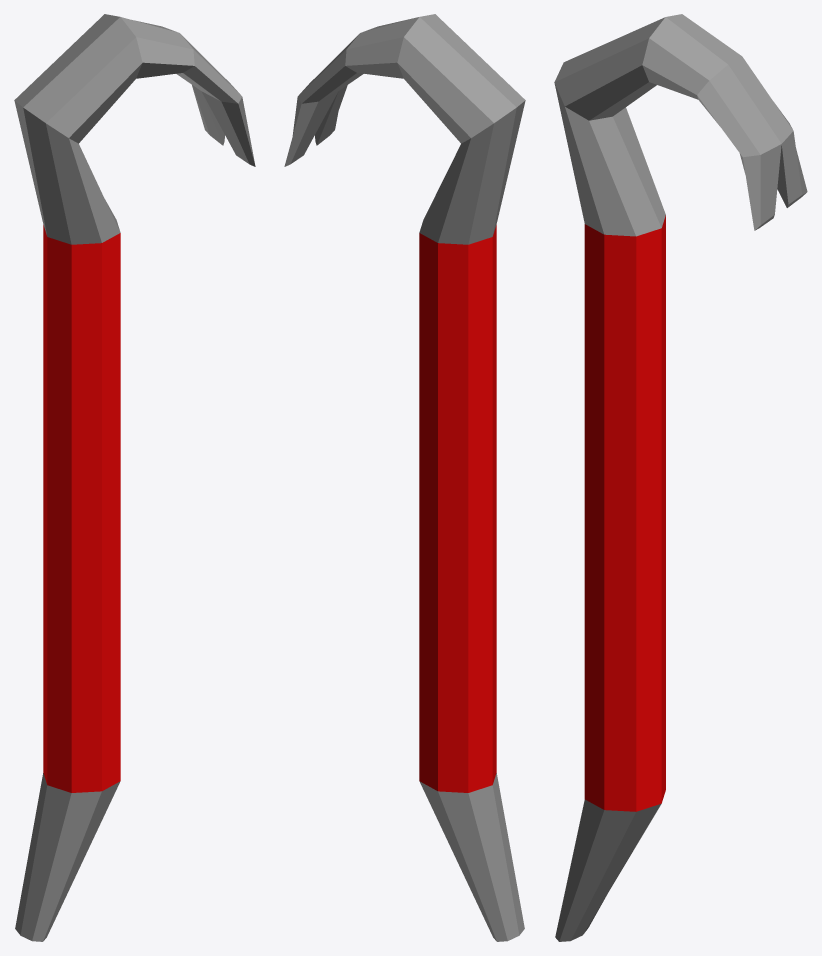
File: crowbar.fbx
3 views of the same model, side by side, from view 1: azimuth 30°, elevation 25°; view 2: azimuth 150°, elevation 25°; view 3: azimuth 330°, elevation 25° (orthographic). The views are drawn at different scales.
Parts seen in each view (by area): view 1: Cylinder; view 2: Cylinder; view 3: Cylinder.
Boxes of the visible parts, x1=… form: Cylinder: x1=14, y1=14, x2=255, y2=941; Cylinder: x1=284, y1=14, x2=525, y2=941; Cylinder: x1=554, y1=14, x2=807, y2=941.
Size of the model in its own units: 273 by 1109 by 114.
